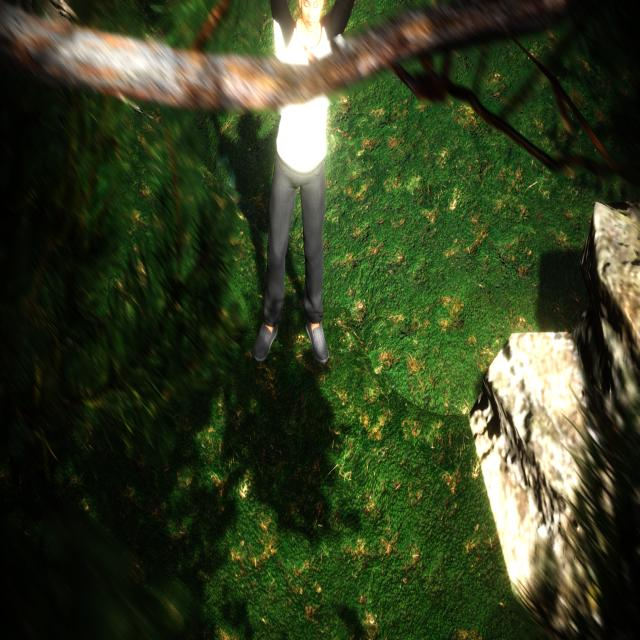Human: (260, 0, 357, 366)
